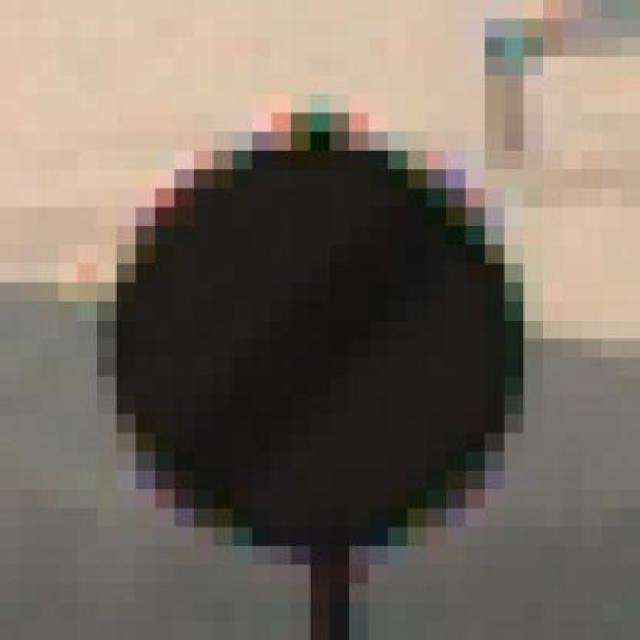End of all speed and passing limits: (97, 94, 563, 583)
